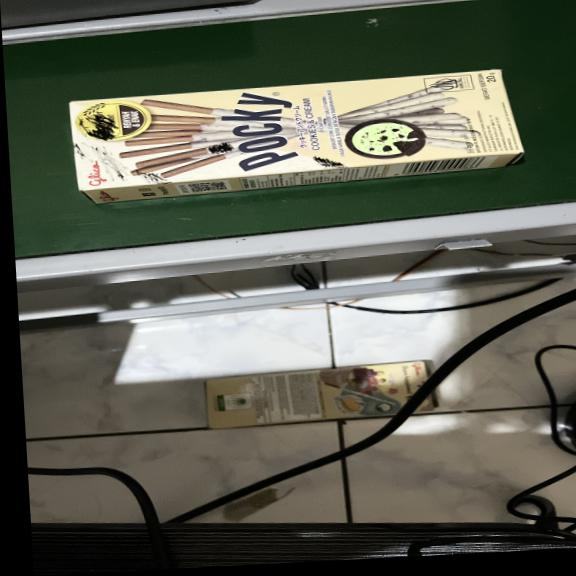Kertas: (64, 66, 531, 200)
